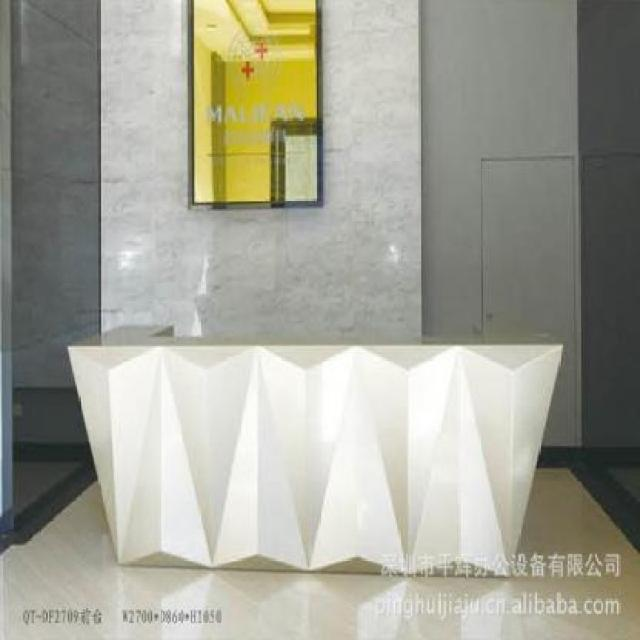frontdesk: (62, 311, 570, 582)
